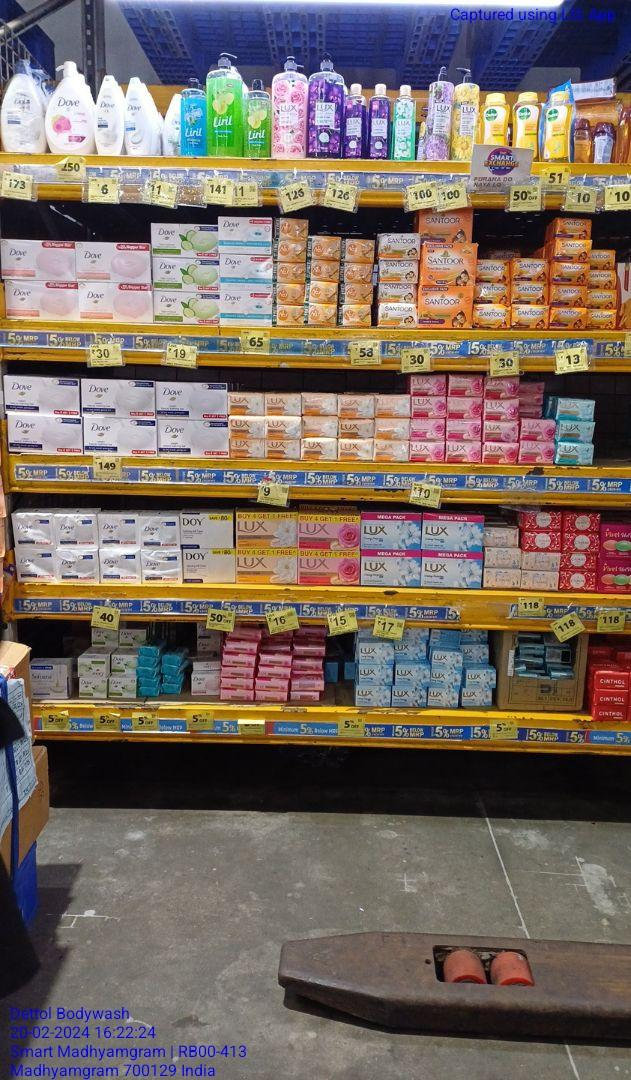Dettol_Bodywash_Cool: (181, 77, 206, 156)
Dettol_Bodywash_Refresh: (543, 92, 569, 163), (512, 89, 539, 147), (482, 91, 509, 146)
Dove_Deep_Moisture_Body_Wash_250ML: (94, 74, 124, 156)
Dove_Gentle_Exfoliating_Body_Wash_250ML: (126, 76, 152, 157)
Liril_Lime_and_Tea_Tree_Oil_Body_Wash_250ML: (244, 80, 271, 158)
Lux_Black_Orchid_Scent_and_Juniper_Oil_Body_Wash_245ML: (343, 81, 366, 159), (368, 83, 388, 160)
Lux_Body_Wash_Skin_Detox_Freesia_Scent_and_Alove_Vera_245ML: (394, 83, 416, 160)
